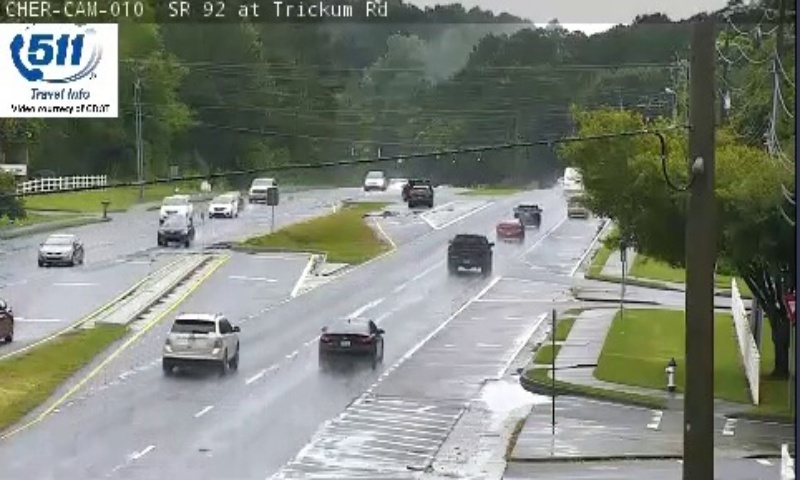car: (164, 312, 239, 364), (320, 319, 383, 364), (446, 234, 491, 272), (512, 202, 541, 229), (496, 218, 524, 241)
